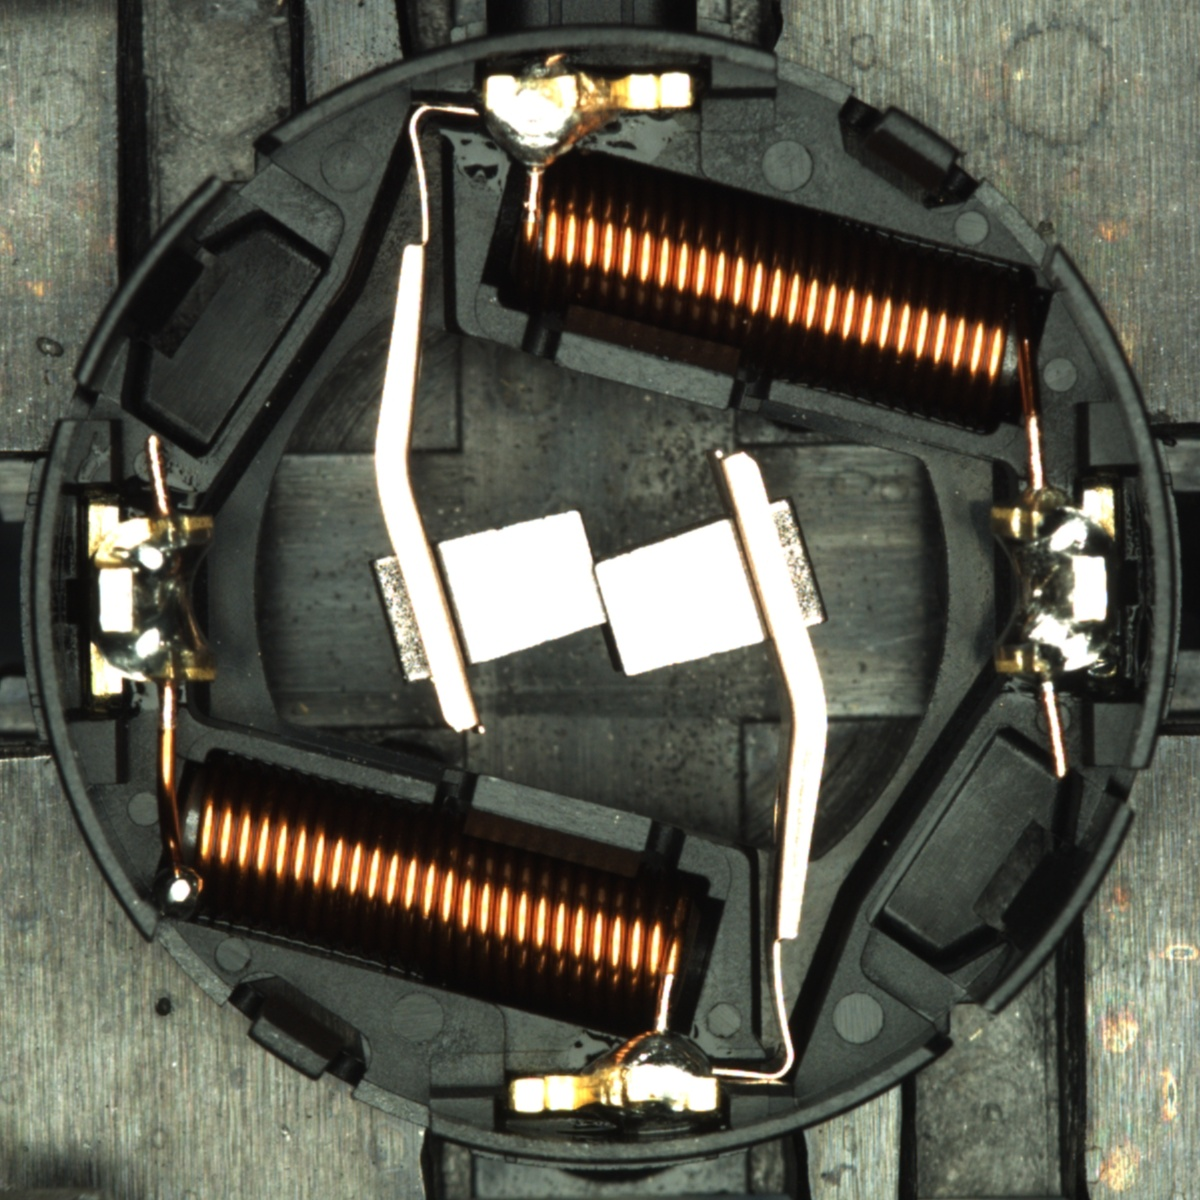1: (713, 928, 942, 1153), (254, 31, 483, 255)
2: (254, 928, 483, 1153), (713, 31, 942, 255)
3: (25, 255, 254, 479), (942, 704, 1171, 928)
4: (254, 255, 483, 479), (713, 704, 942, 928)
5: (483, 143, 713, 367), (483, 816, 713, 1040)
6: (713, 255, 942, 479), (254, 704, 483, 928)
7: (942, 255, 1171, 479), (25, 704, 254, 928)
cacbon: (400, 498, 796, 685)
chau_dien: (81, 498, 222, 699), (983, 486, 1121, 683)
hat_chi: (159, 870, 205, 913)
tay_choi: (480, 71, 697, 173), (508, 1024, 720, 1118)
thanh_de: (955, 786, 1142, 1032), (61, 164, 244, 404)
